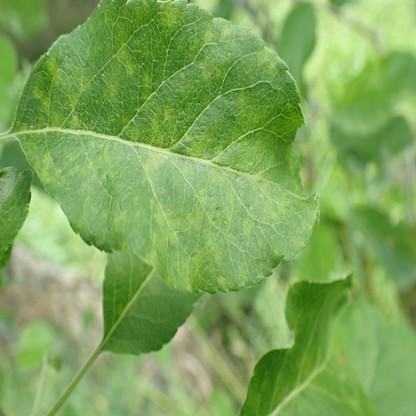scab: (15, 6, 315, 289)
